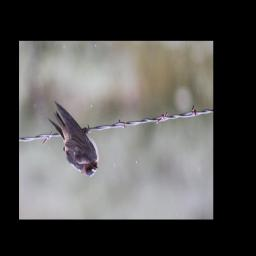Swallow: (46, 100, 100, 178)
